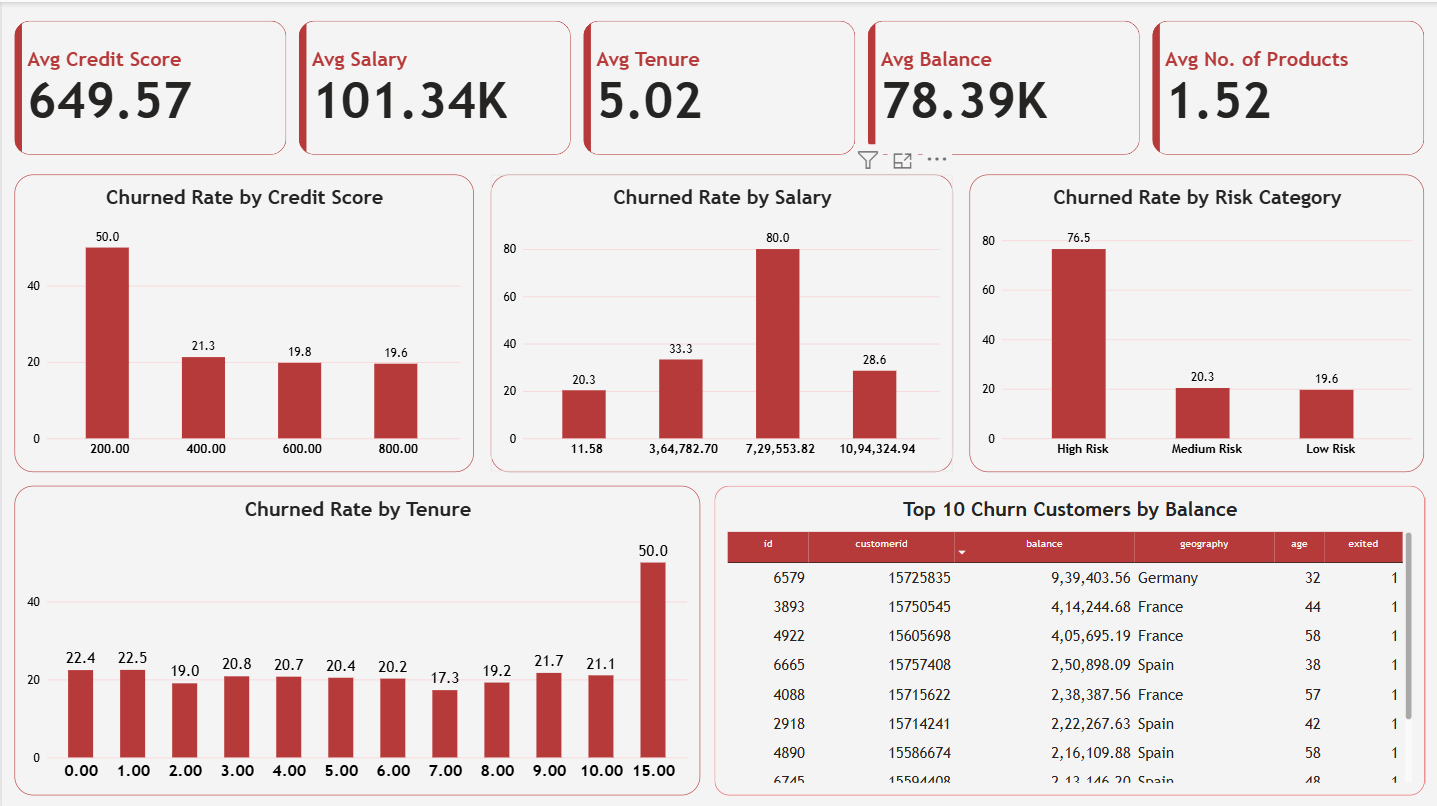

Layout of this report page (visuals, bound fields, positions):
{"tool":"powerbi","page":{"name":"Churn Drivers & Risk Analysis","canvas":[1920,1080],"ordinal":1},"visuals":[{"type":"cardVisual","fields":{"Data":["Avg(bank_churn bank_churn.creditscore)","Avg(bank_churn bank_churn.estimatedsalary)","Avg(bank_churn bank_churn.tenure)","Avg(bank_churn bank_churn.balance)","Avg(bank_churn bank_churn.numofproducts)"]},"box":[16.5,24.7,1883.4,179.1],"z":0},{"type":"columnChart","title":"Churned Rate by Credit Score","fields":{"Y":["bank_churn bank_churn.Churn Rate"],"Category":["bank_churn bank_churn.creditscore (bins)"]},"box":[16.5,230.6,613.4,397.3],"z":1000},{"type":"columnChart","title":"Churned Rate by Salary","fields":{"Y":["bank_churn bank_churn.Churn Rate"],"Category":["bank_churn bank_churn.estimatedsalary (bins)"]},"box":[652.5,230.6,617.5,397.3],"z":2000},{"type":"columnChart","title":"Churned Rate by Risk Category","fields":{"Y":["bank_churn bank_churn.Churn Rate"],"Category":["bank_churn bank_churn.risk category"]},"box":[1292.6,230.6,607.2,397.3],"z":3000},{"type":"columnChart","title":"Churned Rate by Tenure","fields":{"Y":["bank_churn bank_churn.Churn Rate"],"Category":["bank_churn bank_churn.tenure"]},"box":[16.5,646.3,916,413.7],"z":4000},{"type":"tableEx","title":"Top 10 Churn Customers by Balance","fields":{"Values":["bank_churn bank_churn.id","bank_churn bank_churn.customerid","bank_churn bank_churn.balance","bank_churn bank_churn.geography","bank_churn bank_churn.age","bank_churn bank_churn.exited"]},"box":[950.9,646.3,948.9,413.7],"z":5000}]}

Visuals, with their boxes in screenshot pixels (x1, y1, x2, y2), scaled from the page's 1920x1080 canvas onto the 1437x806 screenshot:
cardVisual - Avg(bank_churn bank_churn.creditscore) x Avg(bank_churn bank_churn.estimatedsalary): detection(12, 18, 1422, 152)
"Churned Rate by Credit Score" columnChart: detection(12, 172, 471, 469)
"Churned Rate by Salary" columnChart: detection(488, 172, 951, 469)
"Churned Rate by Risk Category" columnChart: detection(967, 172, 1422, 469)
"Churned Rate by Tenure" columnChart: detection(12, 482, 698, 791)
"Top 10 Churn Customers by Balance" tableEx: detection(712, 482, 1422, 791)
